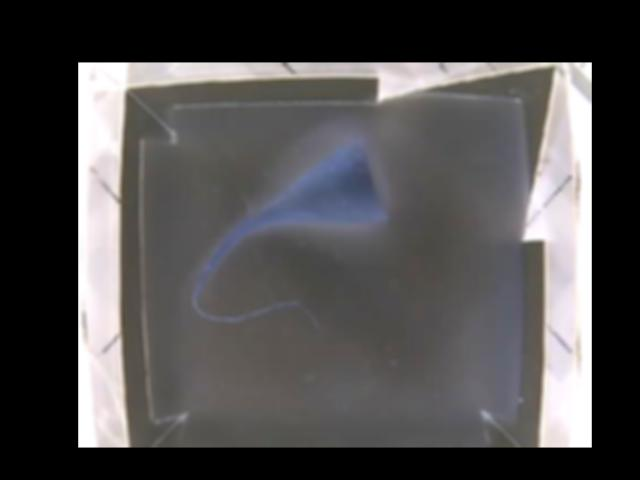Mooli: (277, 139, 401, 224)
